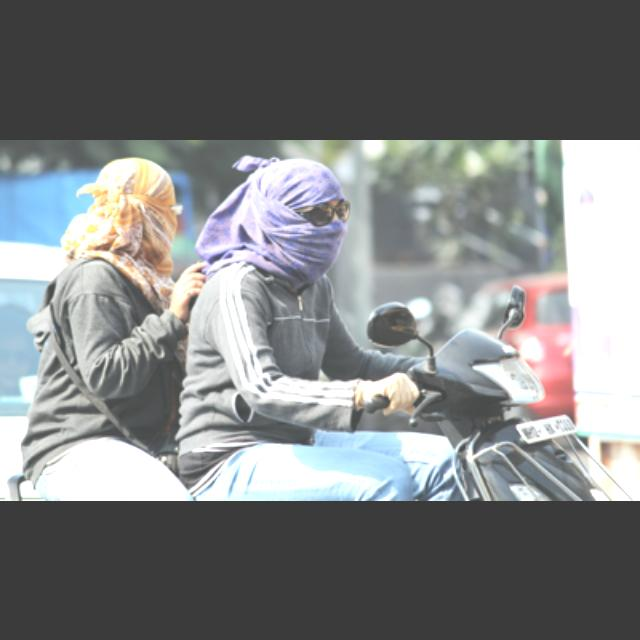Without Helmet: (238, 154, 354, 288)
